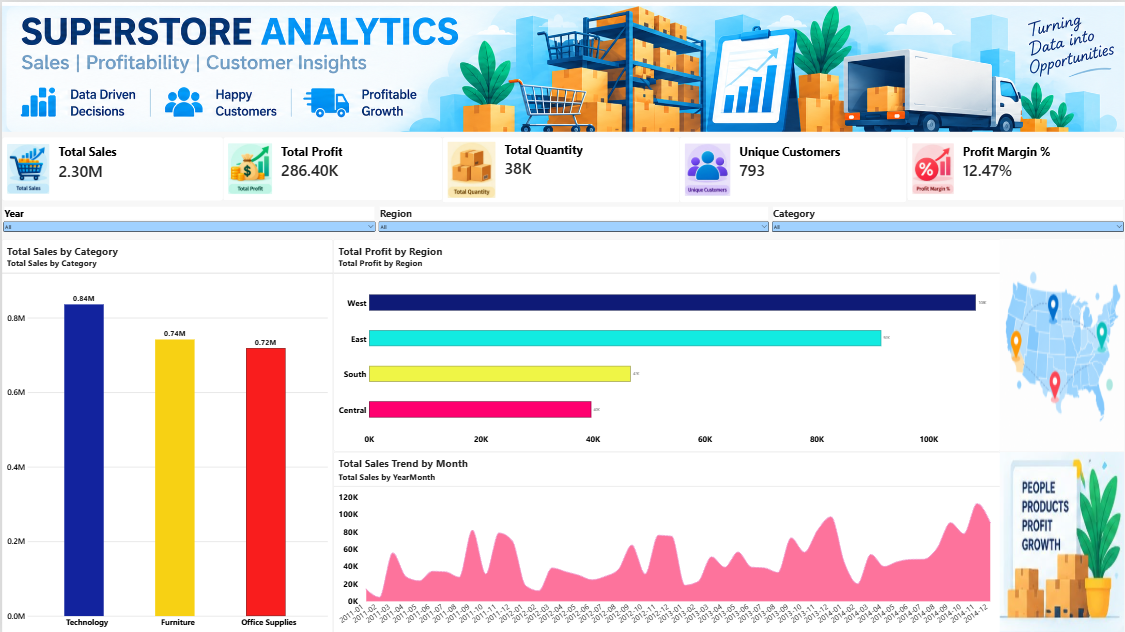

The page's visual inventory and layout, read from the dashboard file:
{"tool":"powerbi","page":{"name":"Sales & Profitability Overview ","canvas":[3840,2160],"ordinal":0},"visuals":[{"type":"cardVisual","fields":{"Data":["Date.Total Quantity"]},"box":[1506.2,462.5,812.5,225],"z":0},{"type":"cardVisual","fields":{"Data":["Date.Unique Customers"]},"box":[2318.8,462.5,775,225],"z":1000},{"type":"cardVisual","fields":{"Data":["Date.Profit Margin %"]},"box":[3093.8,462.5,743.8,218.8],"z":2000},{"type":"clusteredColumnChart","title":"Total Sales by Category ","fields":{"Category":["Orders.Category"],"Y":["Orders.Total Sales"]},"box":[0,812.5,1131.2,1350],"z":3000},{"type":"clusteredBarChart","title":"Total Profit by Region","fields":{"Category":["Orders.Region"],"Y":["Date.Total Profit"]},"box":[1131.2,812.5,2281.2,725],"z":4000},{"type":"lineChart","title":"Total Sales Trend by Month","fields":{"Category":["Date.YearMonth"],"Y":["Orders.Total Sales"]},"box":[1131.2,1537.5,2281.2,625],"z":5000},{"type":"slicer","fields":{"Values":["Date.Year"]},"box":[0,700,1281.2,112.5],"z":6000},{"type":"slicer","fields":{"Values":["Orders.Region"]},"box":[1281.2,700,1343.8,112.5],"z":7000},{"type":"slicer","fields":{"Values":["Orders.Category"]},"box":[2625,700,1212.5,112.5],"z":8000},{"type":"image","box":[0,0,3837.5,443.8],"z":9000},{"type":"cardVisual","fields":{"Data":["Date.Total Profit"]},"box":[756.2,462.5,750,218.8],"z":10000},{"type":"image","box":[3412.5,812.5,425,725],"z":12000},{"type":"image","box":[3412.5,1537.5,425,625],"z":13000},{"type":"cardVisual","fields":{"Data":["Orders.Total Sales"]},"box":[0,463,756,219],"z":13001}]}

Visuals, with their boxes in screenshot pixels (x1, y1, x2, y2), scaled from the page's 3840x2160 canvas onto the 1125x632 screenshot:
cardVisual - Date.Total Quantity: left=441, top=135, right=679, bottom=201
cardVisual - Date.Unique Customers: left=679, top=135, right=906, bottom=201
cardVisual - Date.Profit Margin %: left=906, top=135, right=1124, bottom=199
"Total Sales by Category " clusteredColumnChart: left=0, top=238, right=331, bottom=631
"Total Profit by Region" clusteredBarChart: left=331, top=238, right=1000, bottom=450
"Total Sales Trend by Month" lineChart: left=331, top=450, right=1000, bottom=631
slicer - Date.Year: left=0, top=205, right=375, bottom=238
slicer - Orders.Region: left=375, top=205, right=769, bottom=238
slicer - Orders.Category: left=769, top=205, right=1124, bottom=238
image: left=0, top=0, right=1124, bottom=130
cardVisual - Date.Total Profit: left=222, top=135, right=441, bottom=199
image: left=1000, top=238, right=1124, bottom=450
image: left=1000, top=450, right=1124, bottom=631
cardVisual - Orders.Total Sales: left=0, top=135, right=221, bottom=200
